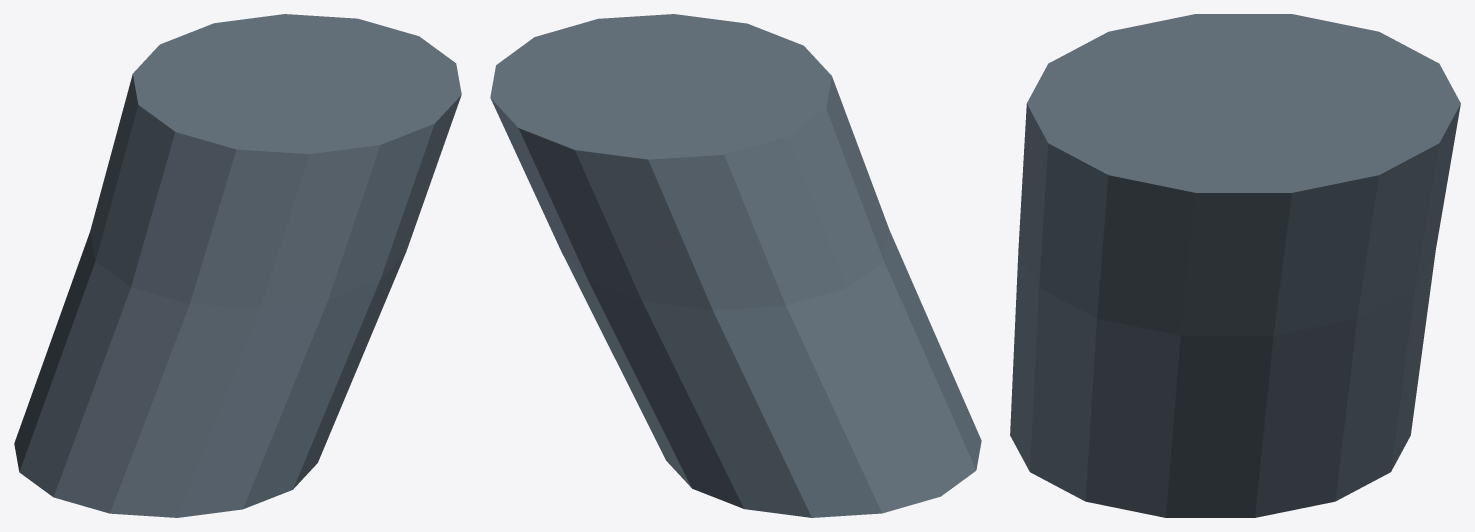
Rendered from SleeveUpper_L.obj.
3 views of the same model, side by side, from view 1: azimuth 30°, elevation 25°; view 2: azimuth 150°, elevation 25°; view 3: azimuth 270°, elevation 25° (orthographic). The views are drawn at different scales.
Parts seen in each view (by area): view 1: SleeveUpper_L; view 2: SleeveUpper_L; view 3: SleeveUpper_L.
Boxes of the visible parts, x1,y1,x2,y2 form: SleeveUpper_L: (14,14,461,517); SleeveUpper_L: (490,14,981,517); SleeveUpper_L: (1010,14,1460,517).
Size of the model in its own units: 0.3737 by 0.28 by 0.27.
